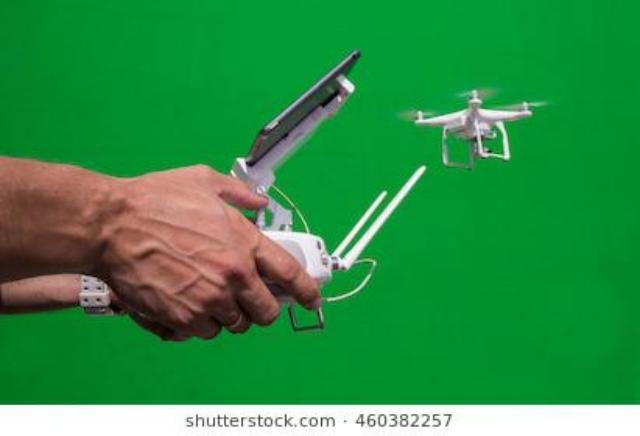drone: (392, 66, 568, 184), (0, 404, 640, 436)
